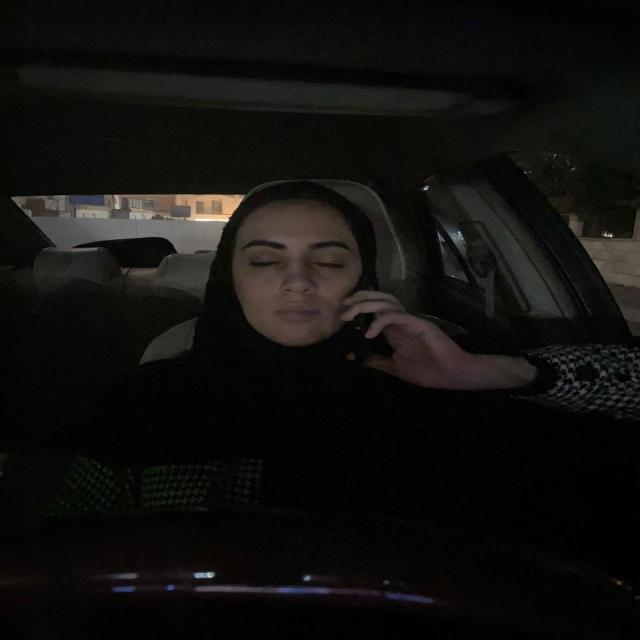mobile: (340, 281, 396, 374)
person: (220, 184, 368, 350)
